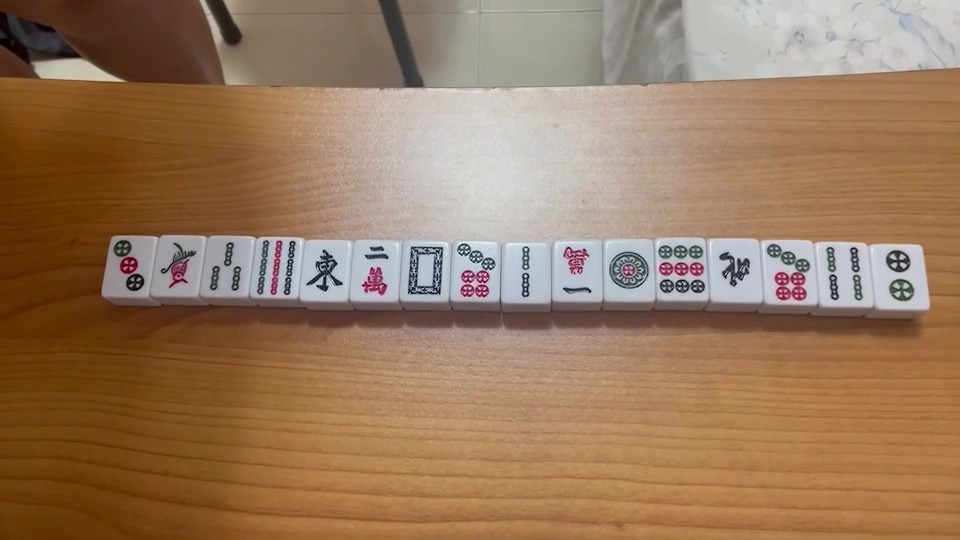b-1: (158, 241, 197, 288)
b-2: (514, 242, 535, 300)
b-3: (208, 238, 243, 292)
b-4: (823, 244, 864, 304)
b-9: (252, 238, 298, 299)
c-1: (558, 244, 594, 296)
c-2: (356, 243, 391, 295)
d-1: (606, 251, 652, 292)
d-2: (880, 244, 921, 306)
d-3: (108, 238, 143, 291)
d-7: (766, 242, 813, 302), (454, 243, 497, 299)
d-9: (656, 243, 706, 297)
honors-east: (304, 247, 343, 295)
honors-north: (712, 247, 754, 287)
honors-white: (404, 245, 447, 298)
